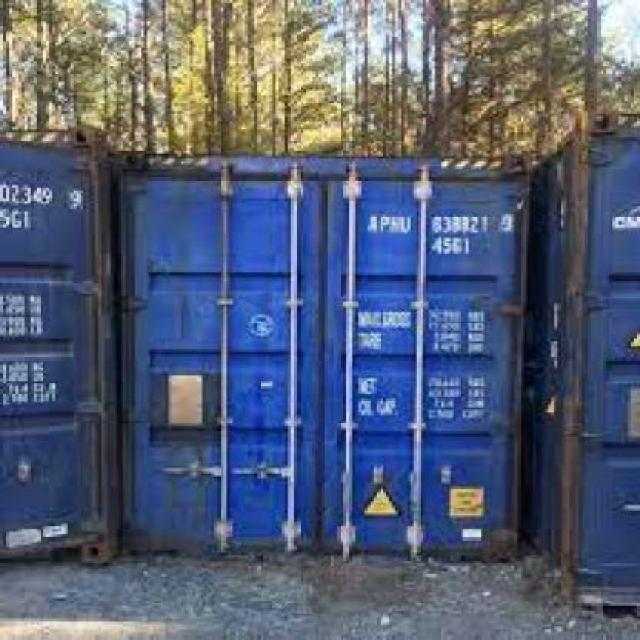ISO: (432, 236, 476, 256), (1, 208, 39, 230)
container_number: (368, 212, 504, 234), (1, 181, 85, 205)
